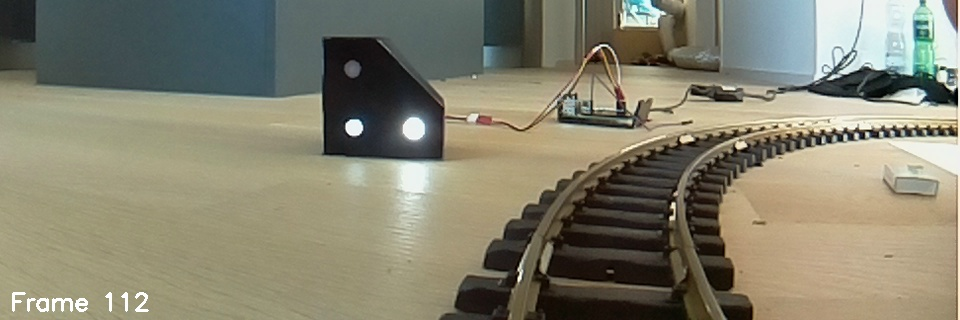Halt: (318, 33, 446, 167)
